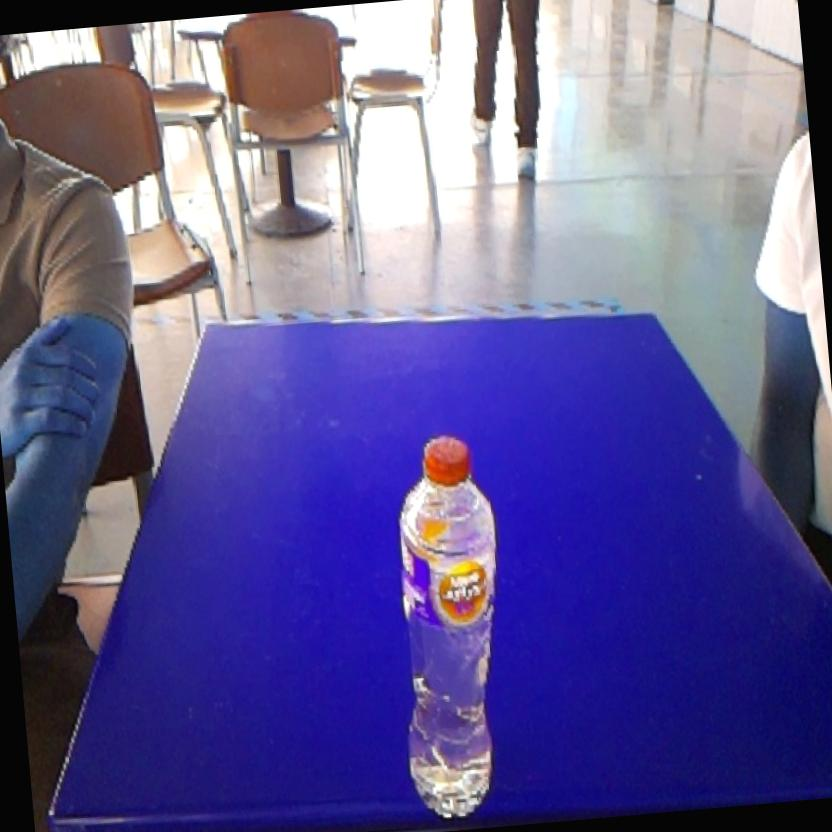good: (370, 417, 524, 827)
